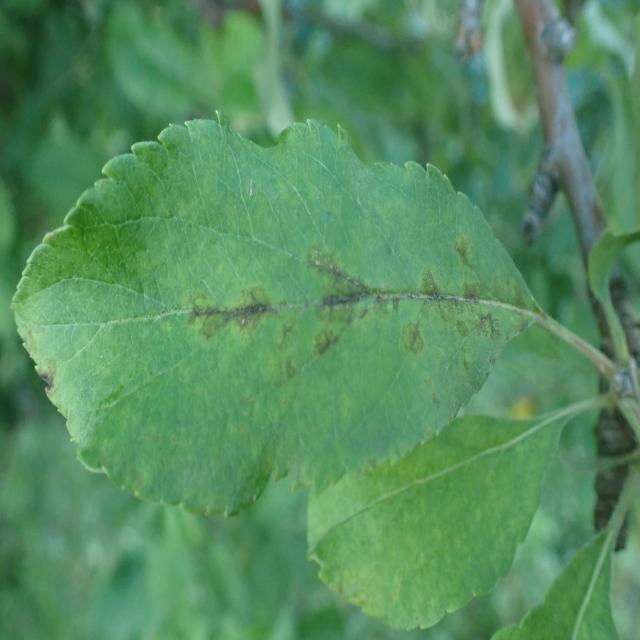scab: (179, 166, 596, 476)
